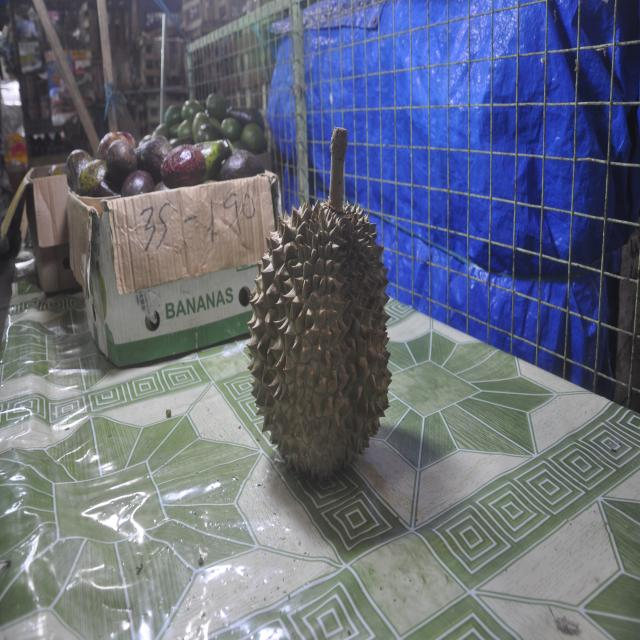mature: (248, 127, 391, 481)
